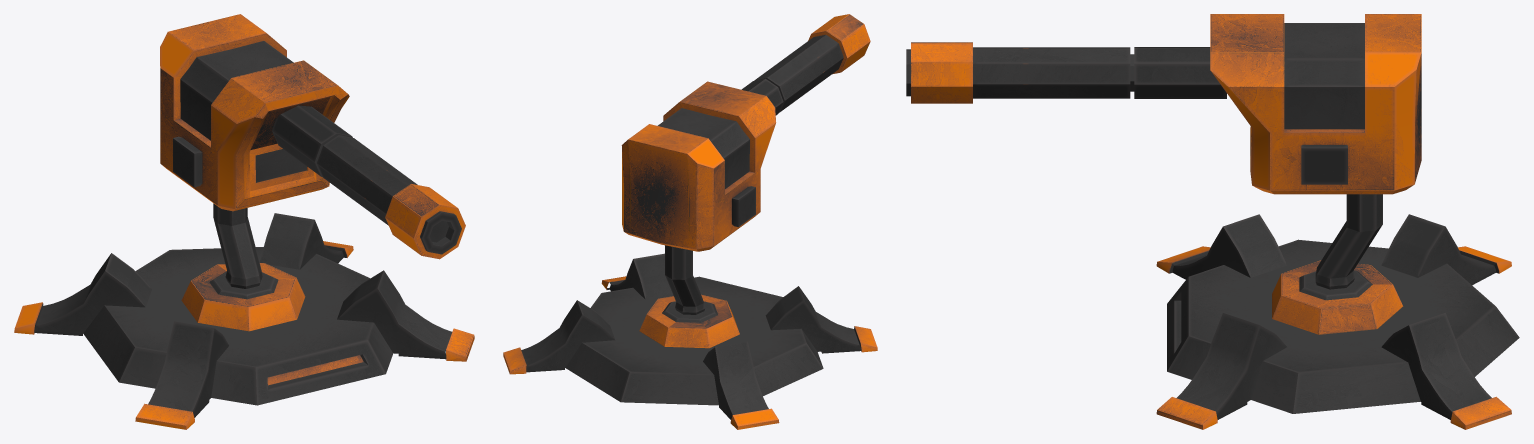
The model's file is Turret.fbx.
3 renders of one model, left to right at view 1: azimuth 30°, elevation 25°; view 2: azimuth 150°, elevation 25°; view 3: azimuth 270°, elevation 25°, orthographic. The views are drawn at different scales.
Parts seen in each view (by area): view 1: GunMount.001, Base.001, BaseClips.001, Gun.001, BaseGunConnector.001; view 2: GunMount.001, Base.001, BaseClips.001, BaseGunConnector.001, Gun.001; view 3: GunMount.001, Base.001, BaseClips.001, Gun.001, BaseGunConnector.001.
Boxes of the visible parts, box(x1,y1,x2,y2) form: GunMount.001: box(160, 14, 349, 211); Base.001: box(83, 247, 393, 405); BaseClips.001: box(14, 213, 474, 429); Gun.001: box(272, 105, 465, 259); BaseGunConnector.001: box(181, 203, 305, 331); GunMount.001: box(621, 81, 776, 251); Base.001: box(565, 276, 823, 405); BaseClips.001: box(503, 253, 877, 429); BaseGunConnector.001: box(639, 245, 739, 348); Gun.001: box(741, 14, 870, 115); GunMount.001: box(1210, 14, 1421, 194); Base.001: box(1167, 239, 1519, 413); BaseClips.001: box(1156, 214, 1511, 429); Gun.001: box(906, 42, 1226, 103); BaseGunConnector.001: box(1272, 194, 1403, 334).
Size of the model in its own units: 2.29 by 1.83 by 3.31.
Materials: 1 (1 with a texture image).
